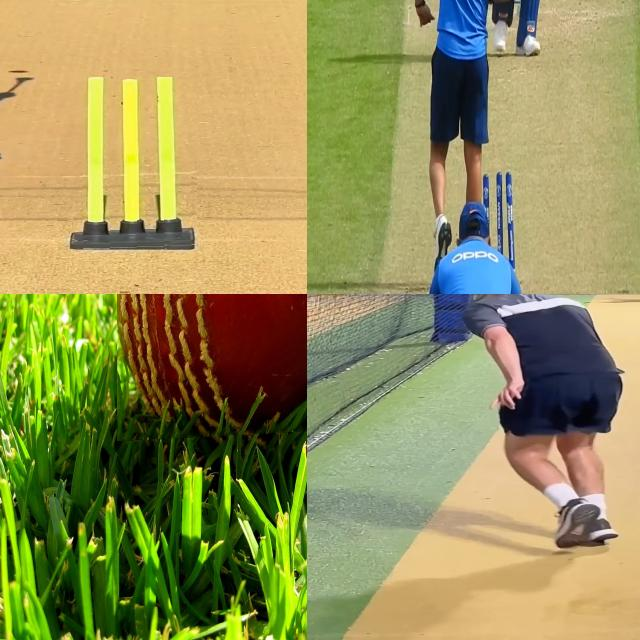Cricket ball: (117, 294, 307, 442)
Stumps: (69, 77, 197, 250)
